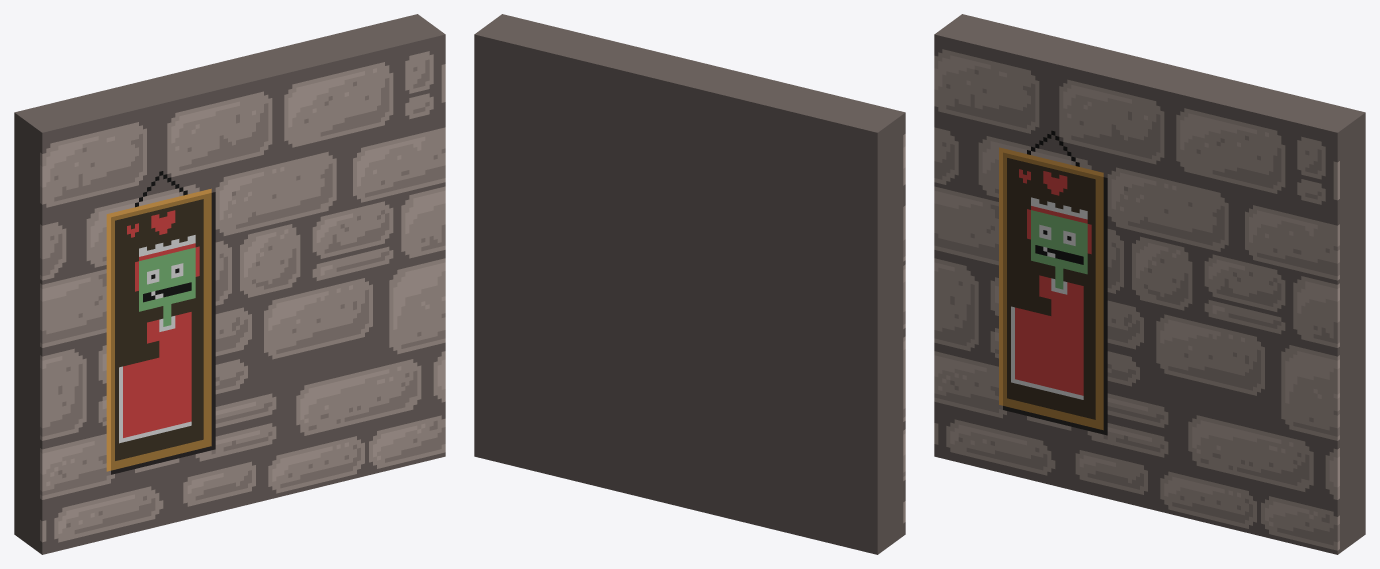
File: GGJ walls 1.2 1.obj
3 views of the same model, side by side, from view 1: azimuth 30°, elevation 25°; view 2: azimuth 150°, elevation 25°; view 3: azimuth 330°, elevation 25° (orthographic).
Size of the model in its own units: 10 by 10 by 1.2.
1 material, 1 textured.
